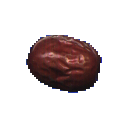gd: (13, 12, 116, 112)
